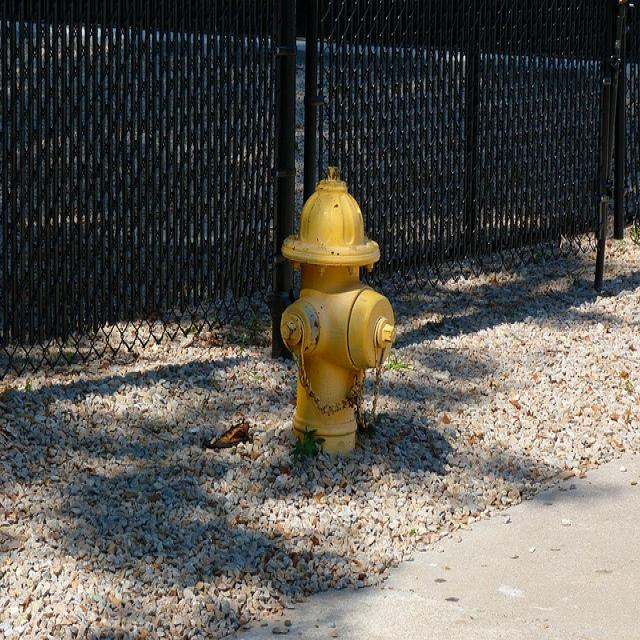fire_hydrant: (273, 162, 394, 454)
